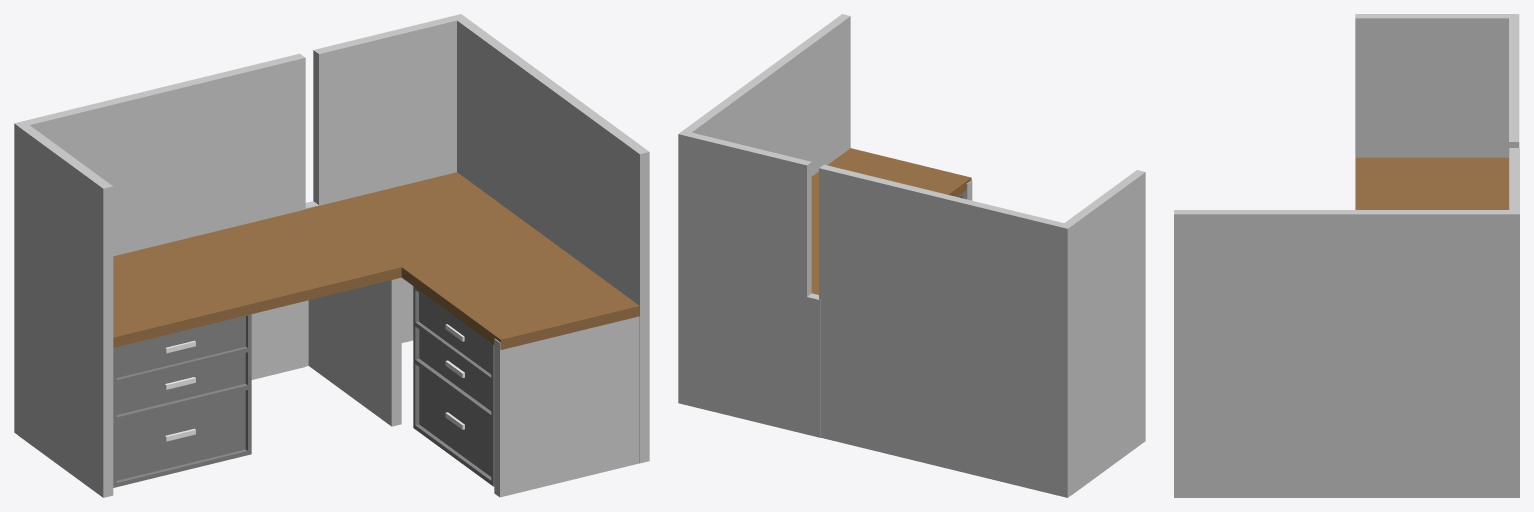
Rendered from office.fbx.
3 views of the same model, side by side, from view 1: azimuth 30°, elevation 25°; view 2: azimuth 150°, elevation 25°; view 3: azimuth 270°, elevation 25° (orthographic). The views are drawn at different scales.
Parts seen in each view (by area): view 1: Cube.001, Cube, Cube.006, Cube.009; view 2: Cube.001, Cube; view 3: Cube.001, Cube.
Boxes of the visible parts, x1=… form: Cube.001: x1=14, y1=14, x2=649, y2=497; Cube: x1=113, y1=172, x2=639, y2=349; Cube.006: x1=113, y1=286, x2=494, y2=487; Cube.009: x1=164, y1=324, x2=464, y2=441; Cube.001: x1=678, y1=14, x2=1145, y2=497; Cube: x1=811, y1=148, x2=971, y2=294; Cube.001: x1=1174, y1=14, x2=1519, y2=497; Cube: x1=1356, y1=157, x2=1508, y2=209.
Bounding box in the file's own units: 909 × 600 × 663.
